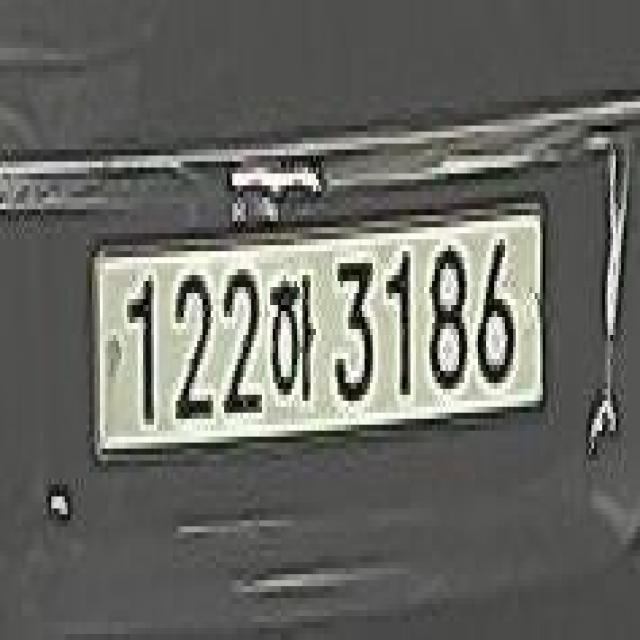illegal_plate: (86, 208, 548, 472)
